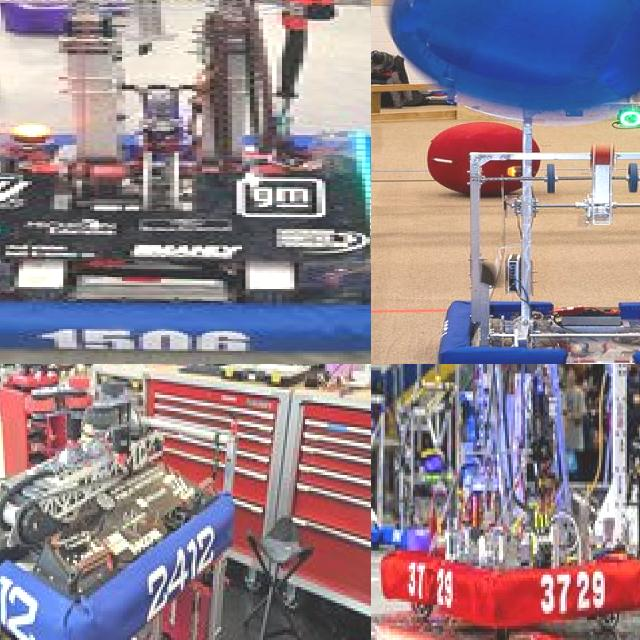FRC-Robots: (0, 0, 371, 364), (0, 365, 292, 640), (376, 364, 640, 640), (393, 82, 640, 364), (575, 364, 640, 585)
